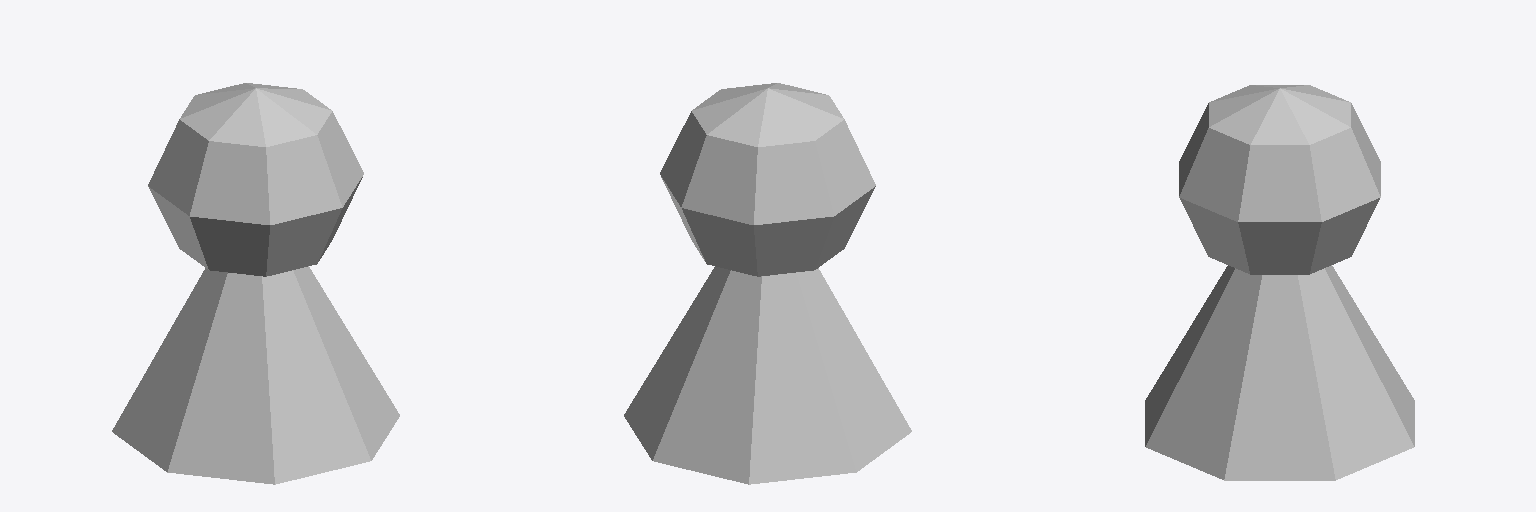
File: pawn-bitmap.obj
3 views of the same model, side by side, from view 1: azimuth 30°, elevation 25°; view 2: azimuth 150°, elevation 25°; view 3: azimuth 270°, elevation 25° (orthographic).
Visible parts, largest first — view 1: pawn; view 2: pawn; view 3: pawn.
Part boxes in pixels (x1,y1,x2,y2): pawn: (112,83,399,484); pawn: (624,83,911,484); pawn: (1145,85,1414,480).
Size of the model in its own units: 0.5 by 0.6875 by 0.5.